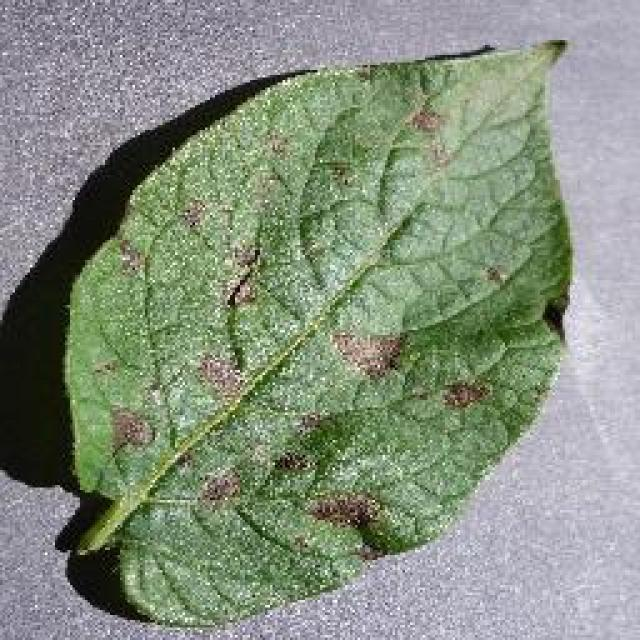early_blight: (52, 35, 578, 630)
